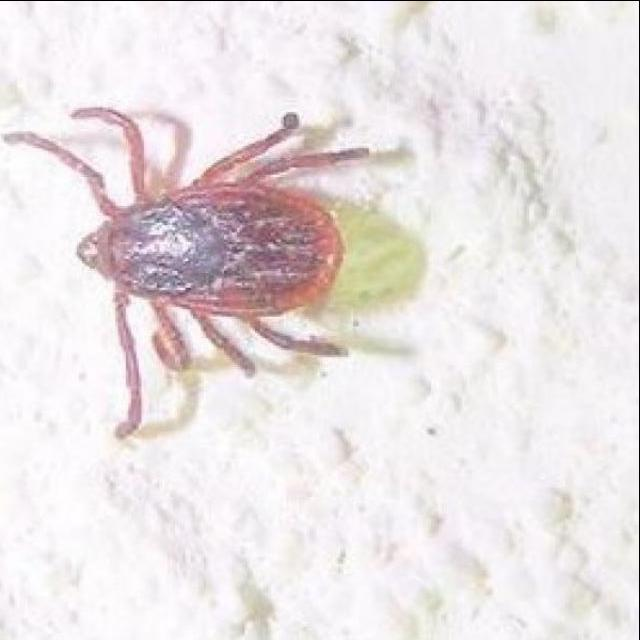Rhipicephalus Sanguineus-F: (5, 104, 370, 440)
